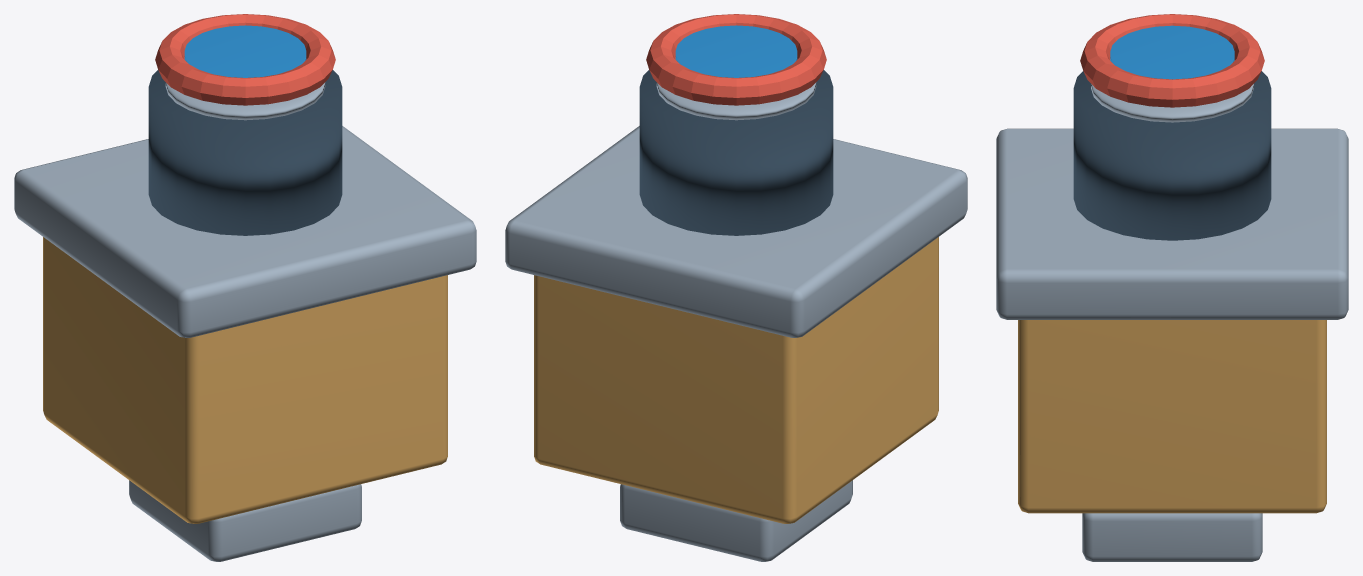
The model's file is optical_camera.glb.
3 views of the same model, side by side, from view 1: azimuth 30°, elevation 25°; view 2: azimuth 150°, elevation 25°; view 3: azimuth 270°, elevation 25° (orthographic). The views are drawn at different scales.
Parts seen in each view (by area): view 1: Camera_Housing, Camera_Intermediate_Section, Lens_Barrel, Mounting_Flange, Lens_Rim, Optical_Lens, Lens_Upper_Barrel; view 2: Camera_Housing, Camera_Intermediate_Section, Lens_Barrel, Mounting_Flange, Lens_Rim, Optical_Lens, Lens_Upper_Barrel; view 3: Camera_Housing, Camera_Intermediate_Section, Lens_Barrel, Mounting_Flange, Lens_Rim, Optical_Lens, Lens_Upper_Barrel.
Boxes of the visible parts, left/top/right/bottom form: Camera_Housing: left=43, top=237, right=447, bottom=523; Camera_Intermediate_Section: left=14, top=126, right=476, bottom=337; Lens_Barrel: left=148, top=70, right=342, bottom=235; Mounting_Flange: left=129, top=480, right=361, bottom=561; Lens_Rim: left=155, top=14, right=335, bottom=105; Optical_Lens: left=184, top=25, right=306, bottom=77; Lens_Upper_Barrel: left=165, top=82, right=325, bottom=120; Camera_Housing: left=534, top=237, right=938, bottom=523; Camera_Intermediate_Section: left=505, top=126, right=967, bottom=337; Lens_Barrel: left=639, top=70, right=833, bottom=235; Mounting_Flange: left=620, top=480, right=852, bottom=561; Lens_Rim: left=646, top=14, right=826, bottom=105; Optical_Lens: left=675, top=25, right=797, bottom=77; Lens_Upper_Barrel: left=656, top=82, right=816, bottom=120; Camera_Housing: left=1018, top=320, right=1326, bottom=513; Camera_Intermediate_Section: left=996, top=128, right=1348, bottom=319; Lens_Barrel: left=1073, top=71, right=1271, bottom=240; Mounting_Flange: left=1082, top=513, right=1262, bottom=561; Lens_Rim: left=1080, top=14, right=1264, bottom=107; Optical_Lens: left=1110, top=25, right=1234, bottom=79; Lens_Upper_Barrel: left=1091, top=84, right=1253, bottom=122.
Bounding box in the file's own units: 0.82 × 1.24 × 0.82.
